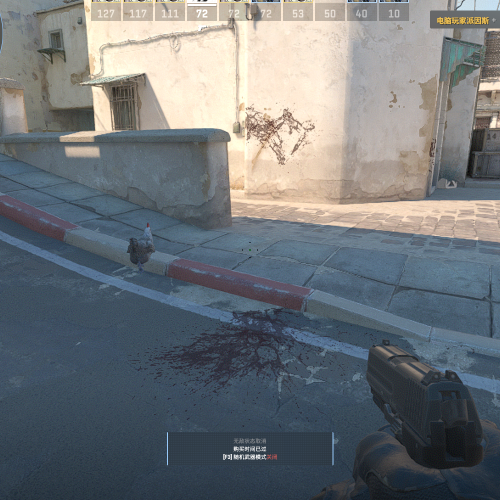chicken: (128, 224, 156, 272)
